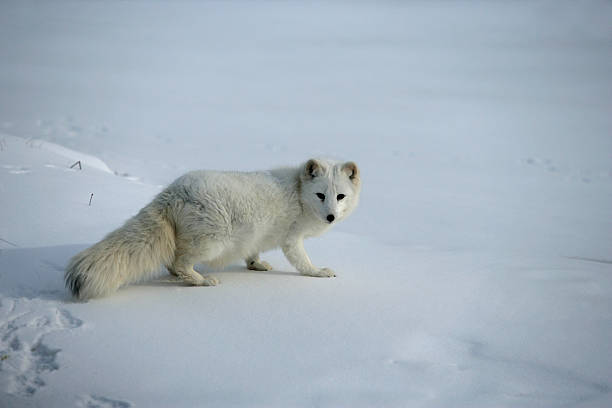arcticfox: (305, 170, 350, 232)
